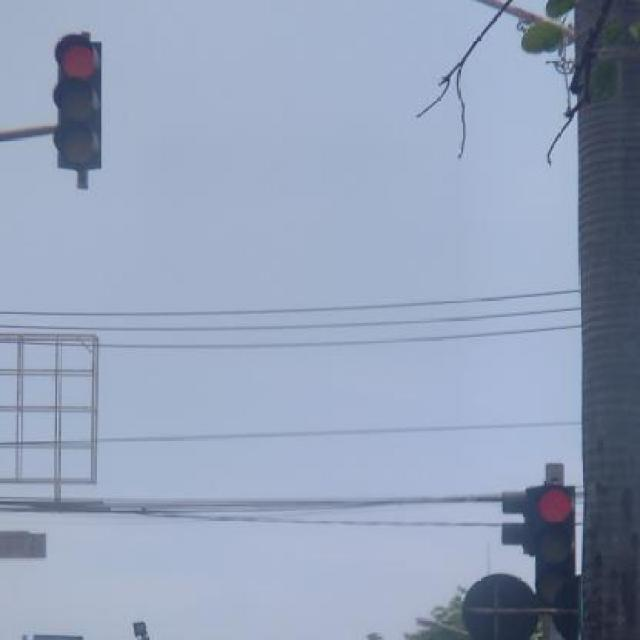traffic light: (56, 40, 102, 171), (536, 488, 574, 606)
